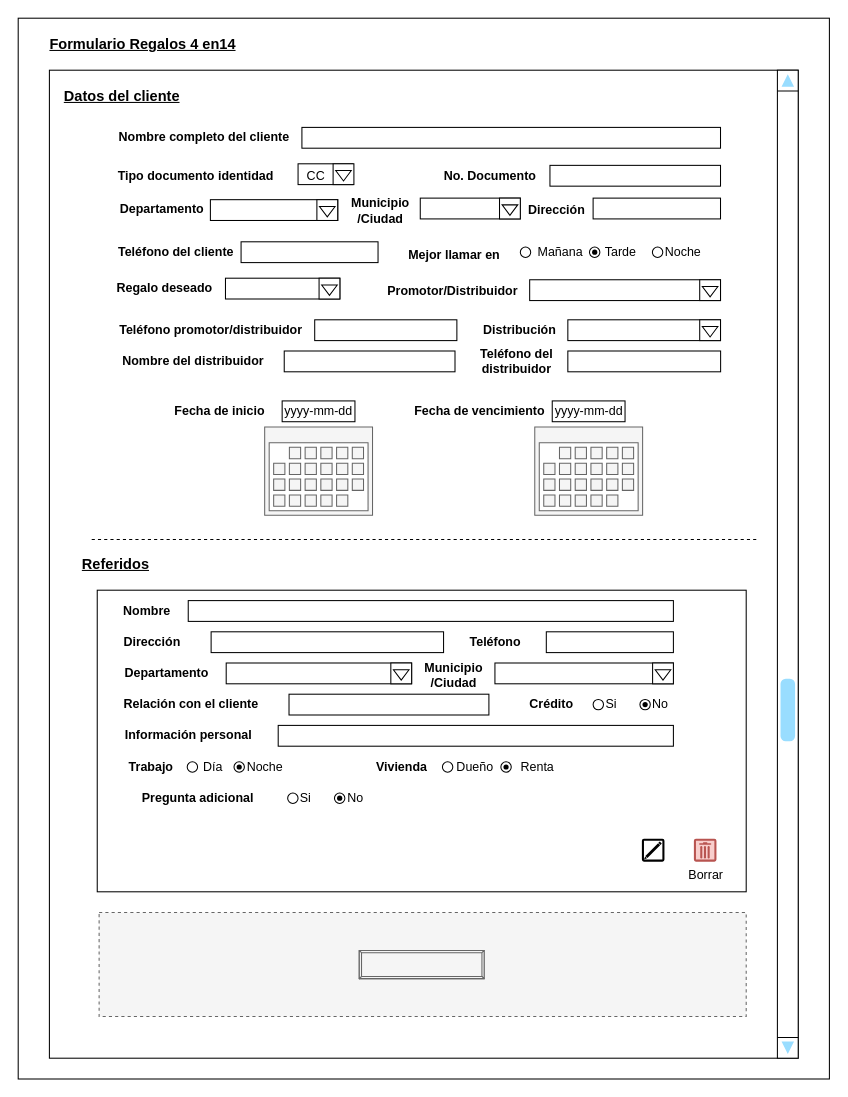
Image size: 848x1097. Some labels were removed from this diagram. Here are the shapes that lost their labels. From the top down, the centre of each, then its label:
point 652,849: Editar
point 421,964: Agregar referido +
